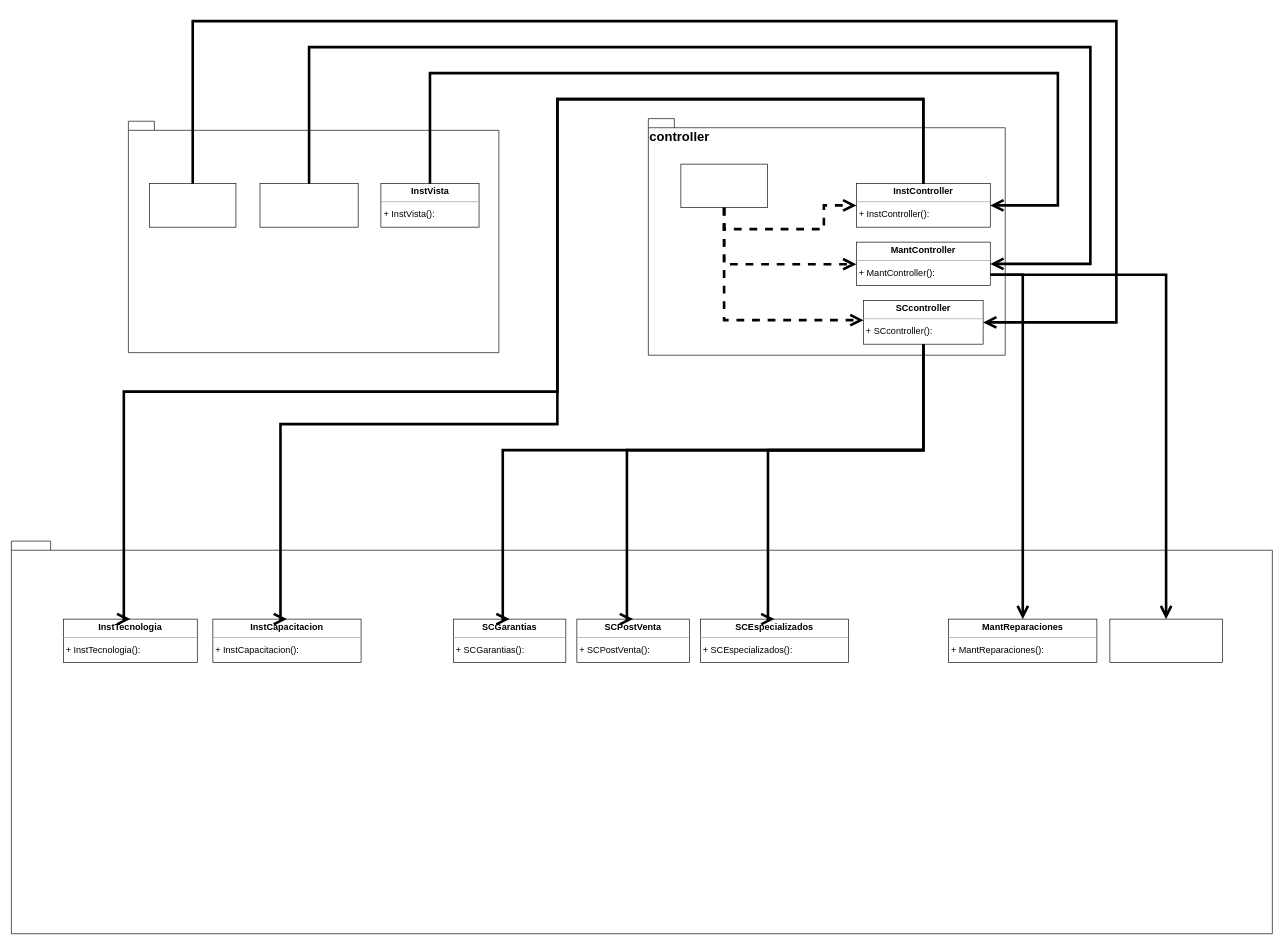
Some shapes in this 1284 by 945 pixel diagram are drawn without their labels. The shapes that lost their labels are listed below. From the top down, each one's box as (x1, y1, x2, y2) in pixels, then its label:
(149, 183, 236, 227): SCVista + SCVista():
(259, 183, 358, 227): MantVista + MantVista():
(680, 163, 767, 208): AplMain + AplMain():
(128, 121, 499, 353): view
(1109, 618, 1222, 663): MantPruebas + MantPruebas():
(11, 540, 1272, 934): model
